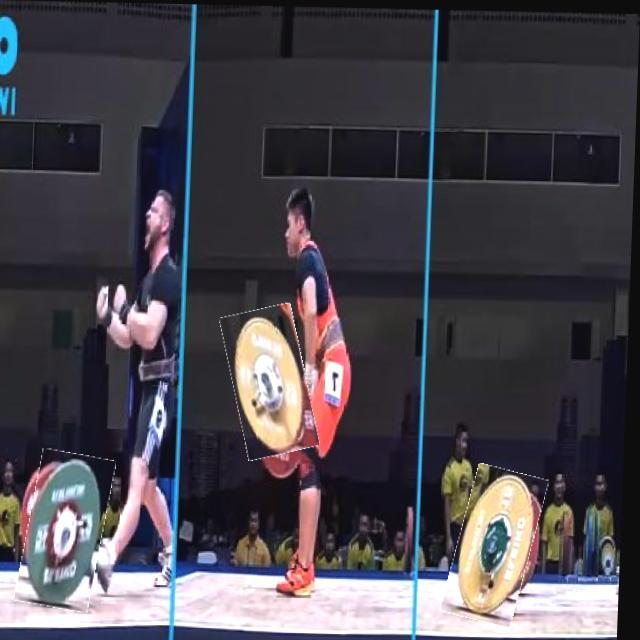barbell: (453, 464, 546, 623), (226, 304, 320, 458), (25, 451, 115, 611)
